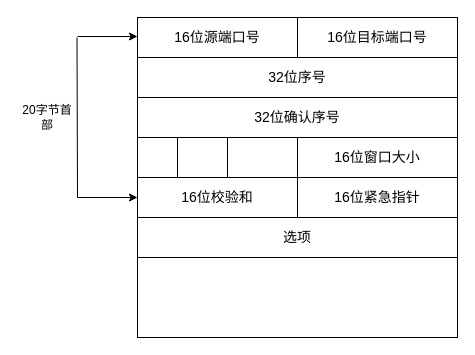
The diagram is 475 pixels wide and 355 high, and some of its shapes have lost their labels. The centre of each missing label's shape, as x and y in pixels:
4位首部长度: (157,157)
保留6位: (202,157)
数据: (297,297)
类型标识: (262,157)
